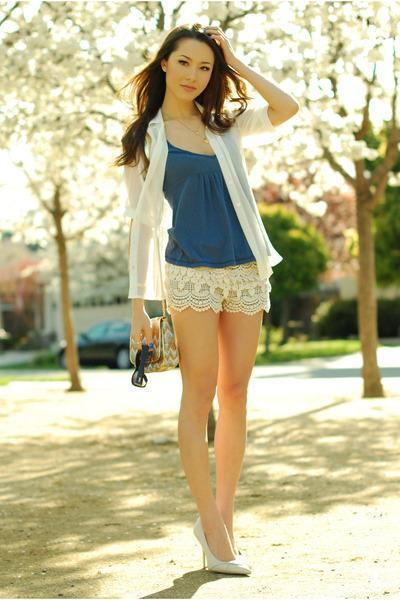bag: (156, 338, 186, 371)
jacket: (119, 108, 282, 299)
shirt: (163, 140, 255, 268)
shoe: (205, 543, 250, 577)
shorts: (158, 260, 271, 315)
